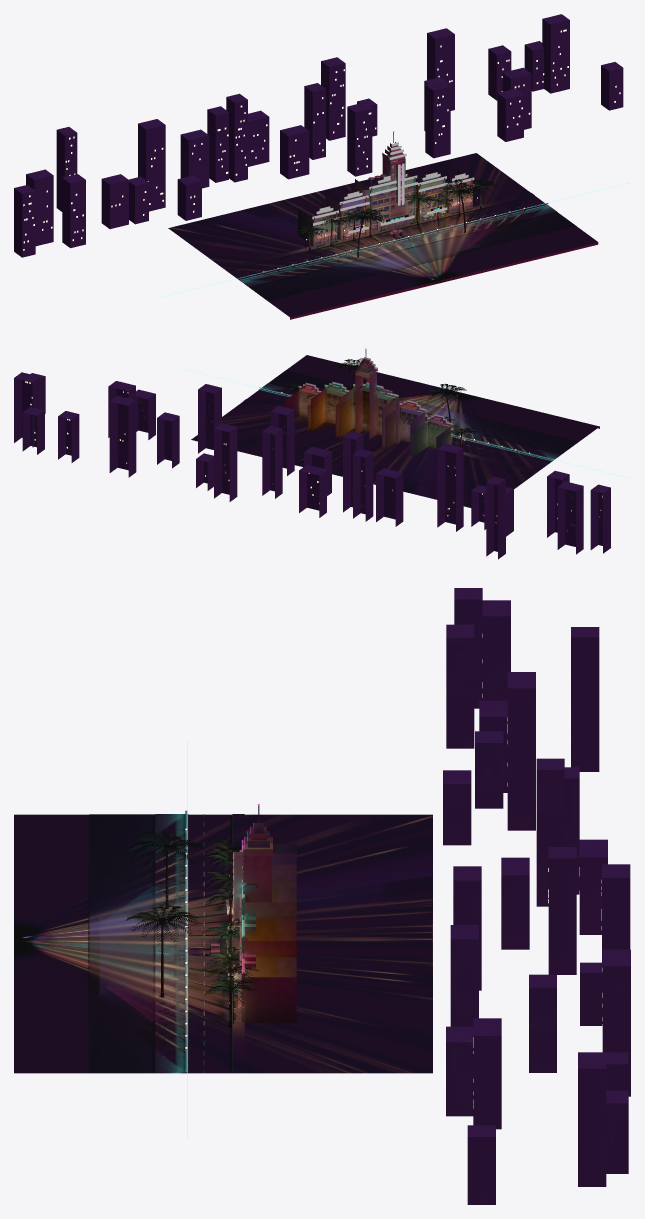
File: hotel.glb
3 views of the same model, one above another, from view 1: azimuth 30°, elevation 25°; view 2: azimuth 150°, elevation 25°; view 3: azimuth 270°, elevation 25° (orthographic). The views are drawn at different scales.
Visible parts, largest first — view 1: far, ground, hotels, palms, far_win, glow_pink, glow_cyan, win, storefront; view 2: far, ground, hotels, palms; view 3: ground, far, hotels, palms.
Part boxes in pixels (x1=…): far: x1=14, y1=14, x2=623, y2=257; ground: x1=168, y1=153, x2=598, y2=319; hotels: x1=263, y1=132, x2=525, y2=274; palms: x1=295, y1=178, x2=496, y2=257; far_win: x1=23, y1=29, x2=620, y2=250; glow_pink: x1=312, y1=142, x2=474, y2=225; glow_cyan: x1=369, y1=172, x2=447, y2=225; win: x1=315, y1=162, x2=468, y2=234; storefront: x1=315, y1=202, x2=470, y2=245; far: x1=14, y1=372, x2=610, y2=559; ground: x1=191, y1=355, x2=599, y2=507; hotels: x1=281, y1=349, x2=530, y2=462; palms: x1=282, y1=358, x2=476, y2=447; ground: x1=14, y1=810, x2=432, y2=1073; far: x1=443, y1=588, x2=630, y2=1204; hotels: x1=185, y1=805, x2=296, y2=1049; palms: x1=125, y1=831, x2=258, y2=1027.
Size of the model in its own units: 255 by 37.81 by 131.
Materials: 14 (6 with a texture image).
